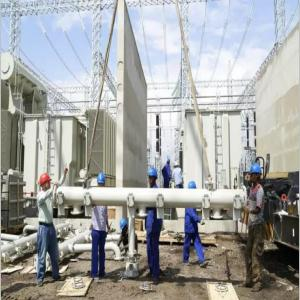blue: (249, 164, 263, 186), (148, 167, 159, 187), (119, 218, 129, 235), (96, 173, 107, 188), (166, 158, 171, 166)
red: (39, 174, 53, 192)
